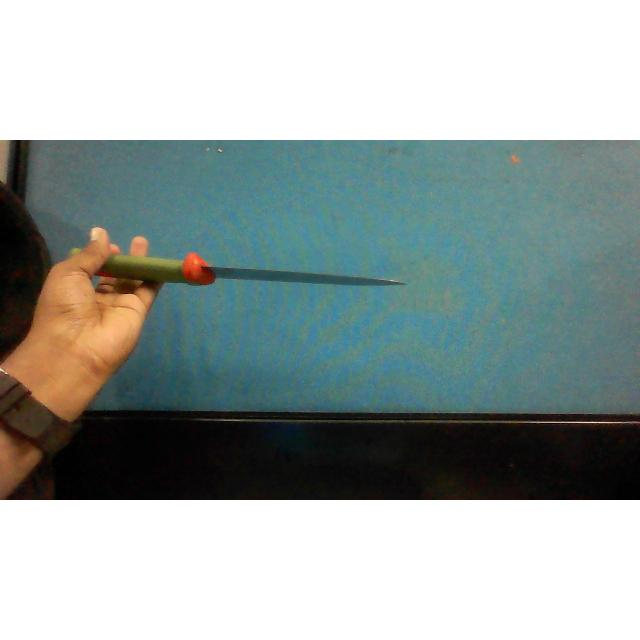Knife: (98, 253, 405, 286)
